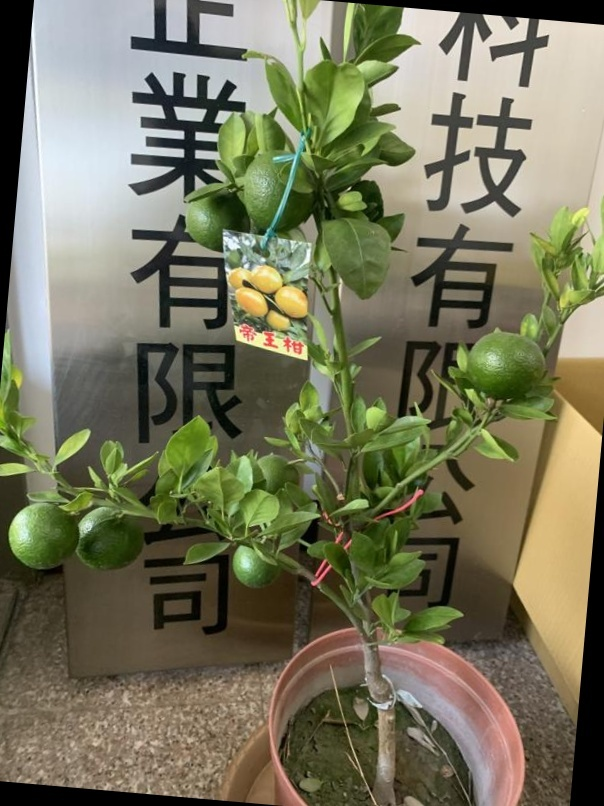Tangerine: (462, 327, 547, 400), (241, 148, 315, 230), (6, 498, 81, 570), (80, 505, 144, 574), (234, 540, 283, 589)
